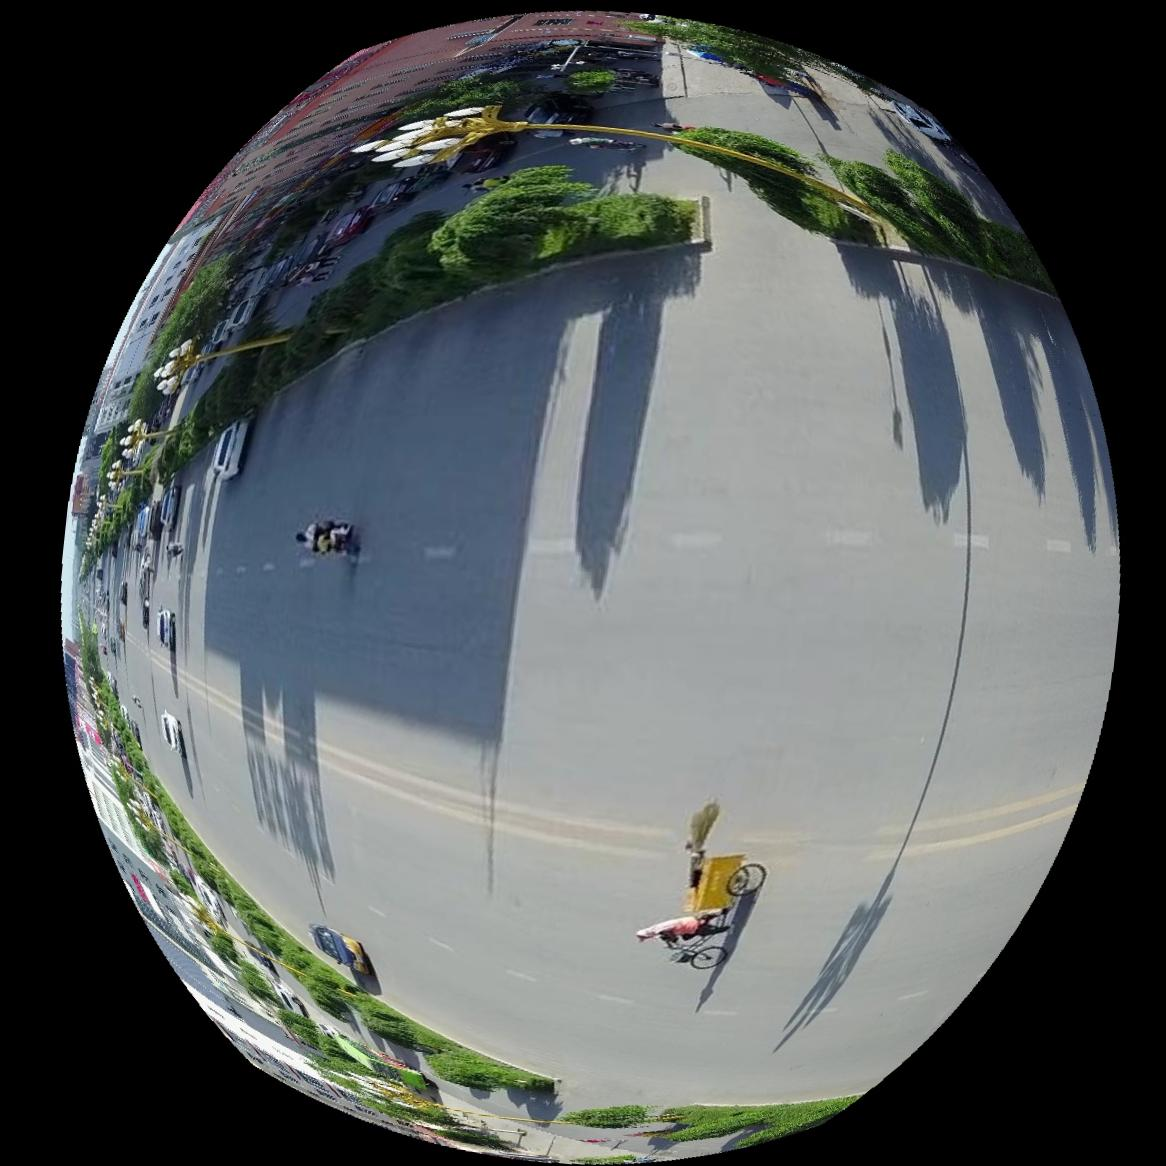cars: (662, 854, 766, 970), (308, 924, 371, 975), (211, 417, 249, 479), (159, 710, 183, 755), (158, 482, 180, 529), (155, 608, 173, 648), (135, 502, 152, 537), (148, 499, 162, 538)
trees: (161, 161, 698, 467), (146, 773, 553, 1093), (826, 147, 1056, 290), (675, 140, 878, 241), (560, 1097, 856, 1148), (681, 123, 817, 174), (636, 911, 730, 941)
